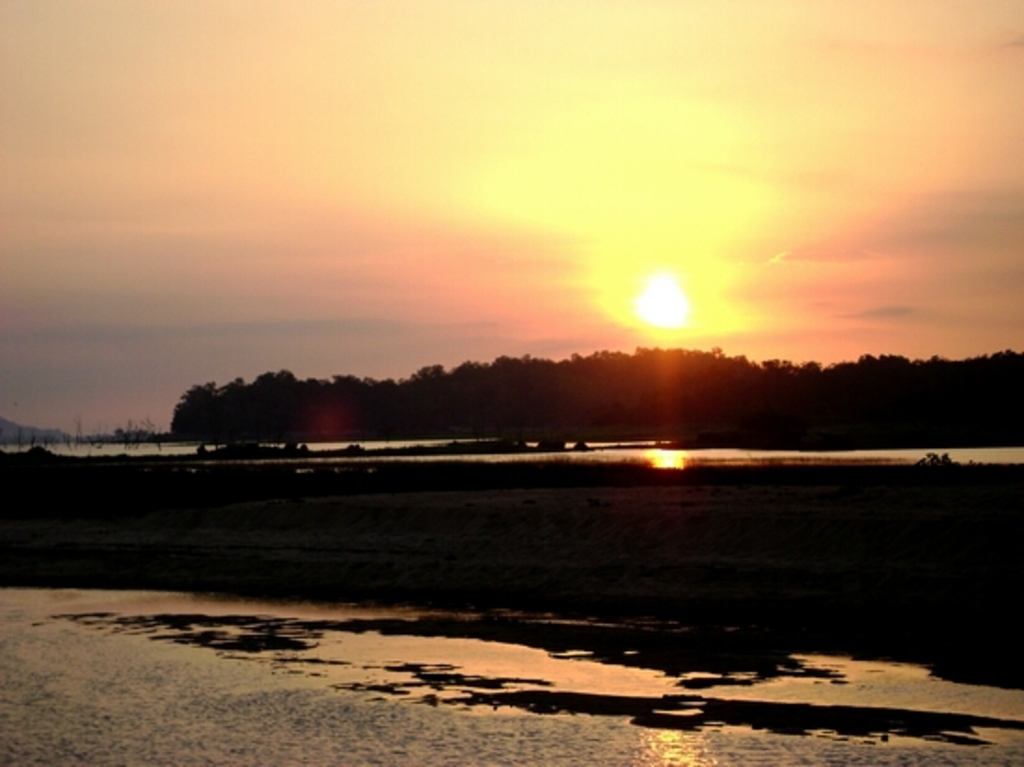Tree: (161, 342, 1022, 448)
